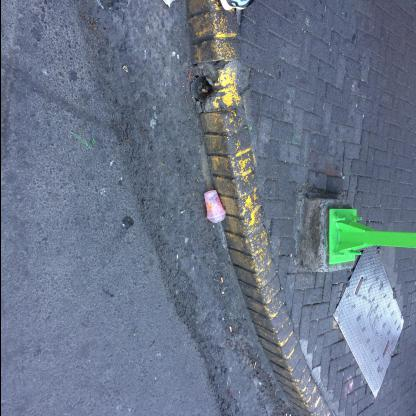plastik: (202, 190, 225, 224)
